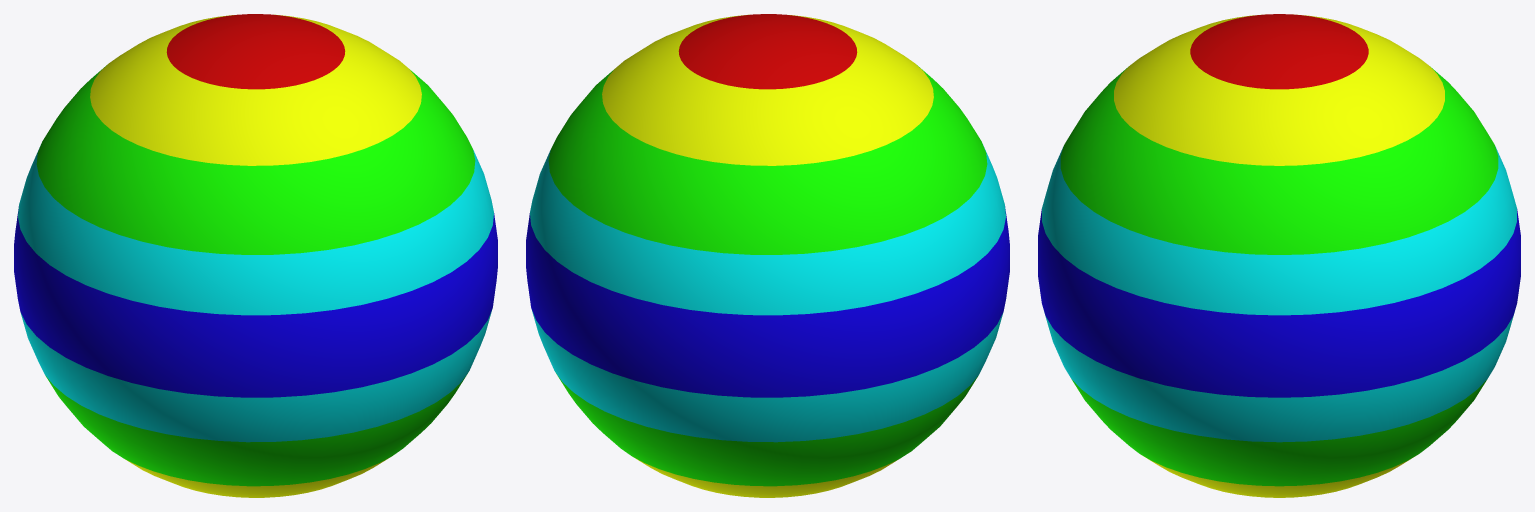
3 renders of one model, left to right at view 1: azimuth 30°, elevation 25°; view 2: azimuth 150°, elevation 25°; view 3: azimuth 270°, elevation 25°, orthographic.
Visible parts, largest first — view 1: Объект_Сфера; view 2: Объект_Сфера; view 3: Объект_Сфера.
Boxes of the visible parts, x1,y1,x2,y2 form: Объект_Сфера: (14, 14, 497, 497); Объект_Сфера: (526, 14, 1009, 497); Объект_Сфера: (1038, 14, 1520, 497).
Size of the model in its own units: 2 by 2 by 1.99.
